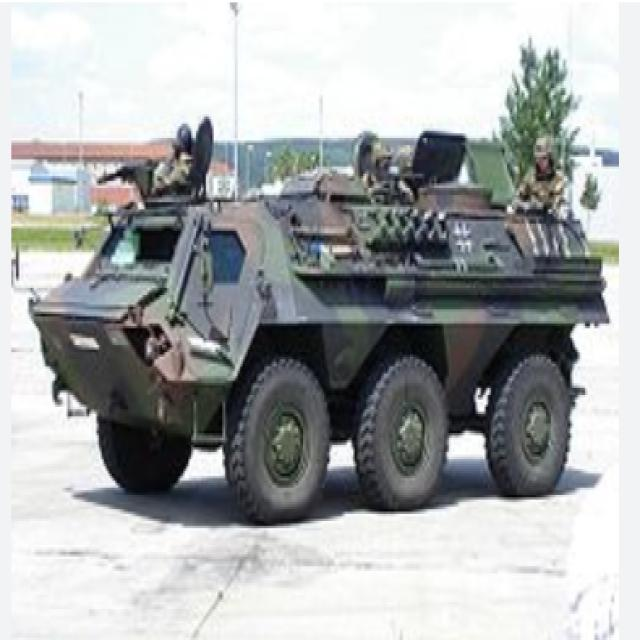MIL_APC: (32, 129, 612, 532)
